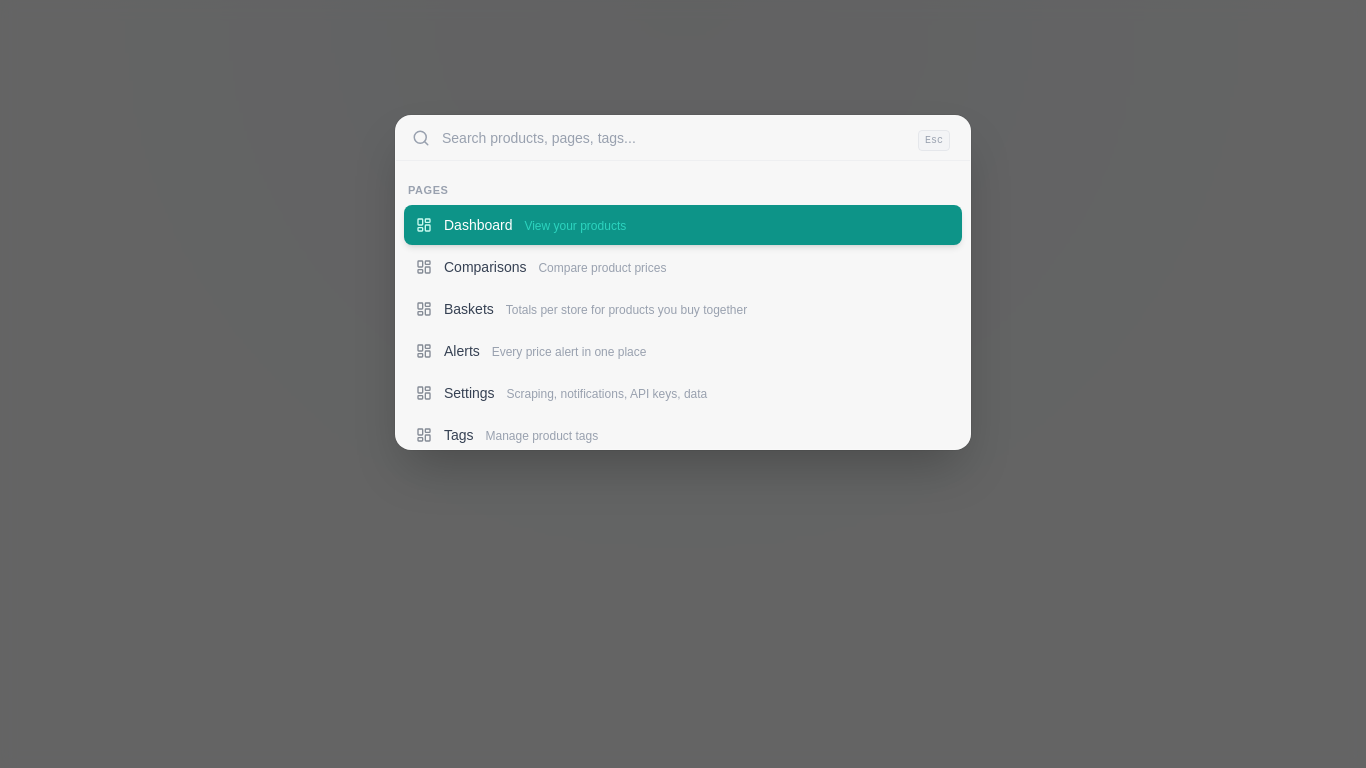
Test case: CommandPalette › filtering › should show "No results" for unmatched queries
The width and height of the screenshot is (1366, 768).
Type "xyznonexistent" into the field with placeholder "Search products, pages, tags...".
click(672, 138); type("xyznonexistent")  # box [442, 116, 902, 160]
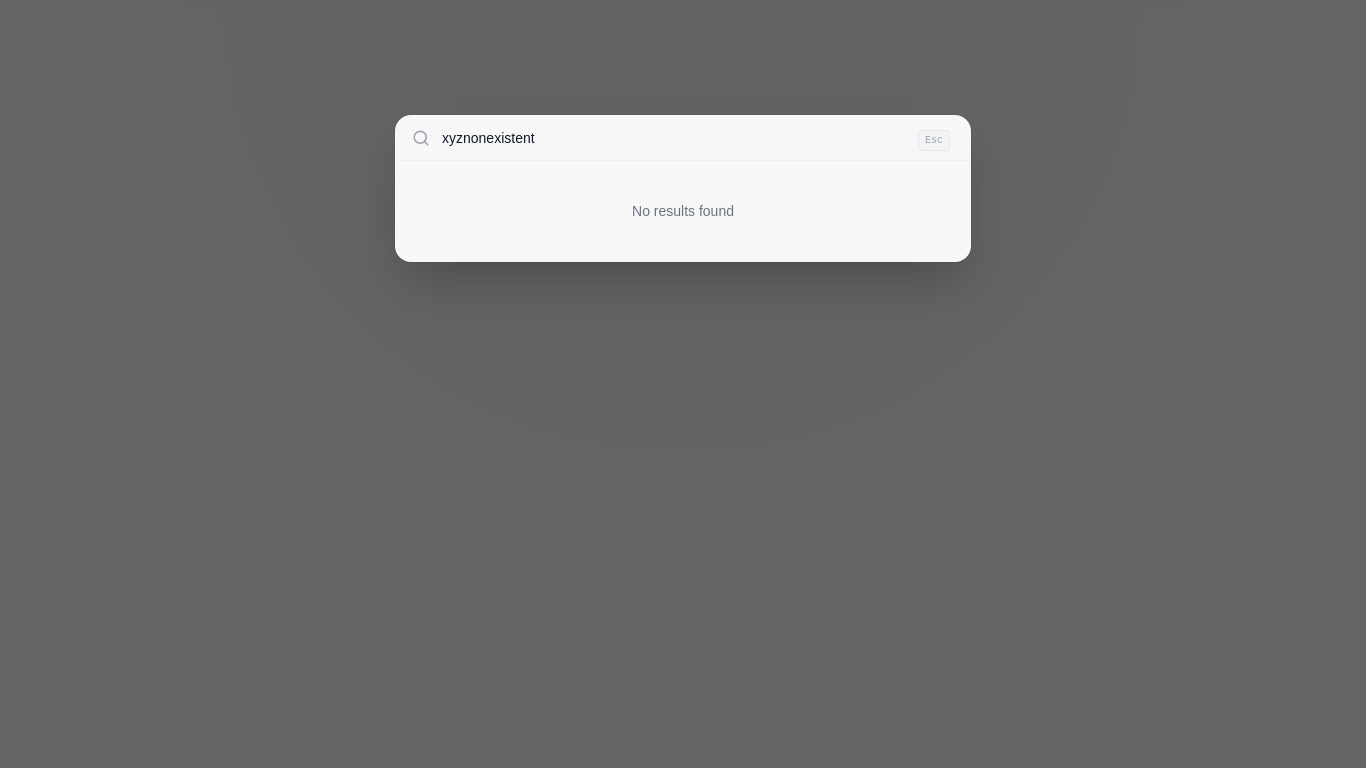
Result: the text "No results found" is shown at [632, 203, 734, 219]
